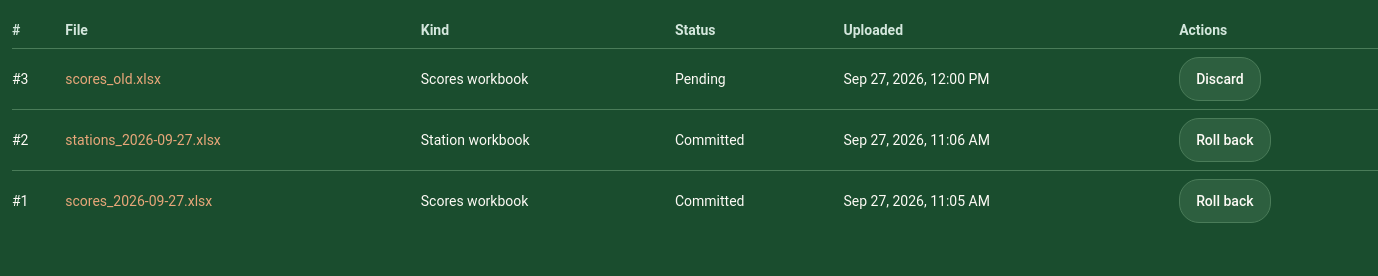
Test: ImportHistory › shows a rejected discard next to the table
The width and height of the screenshot is (1378, 276).
Click the button "Discard" at (1220, 79), box [1179,57,1261,101]
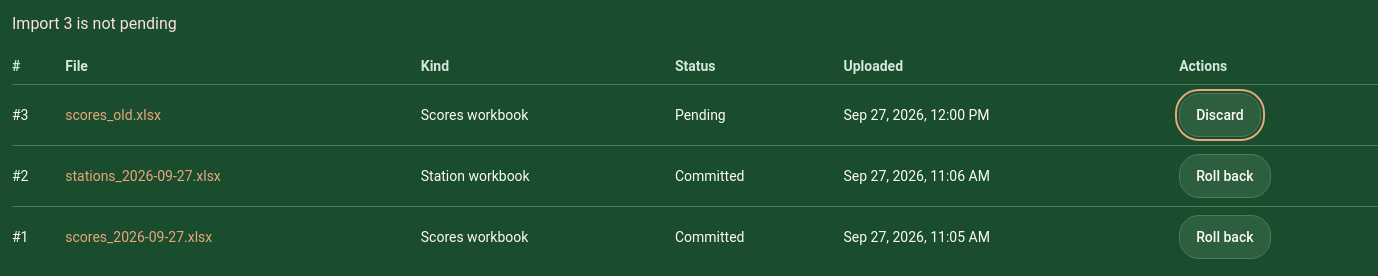
Expected: the message reads "Import 3 is not pending", [12,14,177,33]
